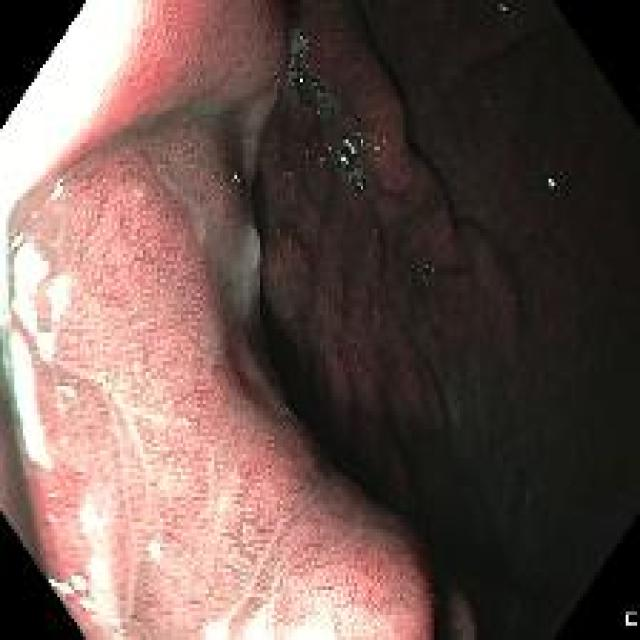bubbles: (287, 24, 336, 109), (336, 123, 385, 192), (304, 133, 333, 167), (419, 254, 440, 288), (481, 93, 493, 112), (228, 169, 241, 186), (273, 220, 286, 236), (434, 10, 445, 28), (285, 233, 297, 248), (442, 65, 453, 75)
contrast: (244, 3, 638, 630)
saturation: (4, 2, 142, 322), (193, 588, 362, 637), (5, 329, 52, 463), (79, 502, 124, 631), (8, 227, 50, 324), (35, 270, 78, 360), (49, 567, 89, 603), (138, 534, 169, 578), (48, 173, 67, 206)
specularity: (342, 137, 356, 153), (338, 153, 349, 166), (548, 176, 557, 190), (353, 182, 364, 190), (311, 80, 318, 92), (297, 47, 303, 58), (298, 76, 305, 83)
